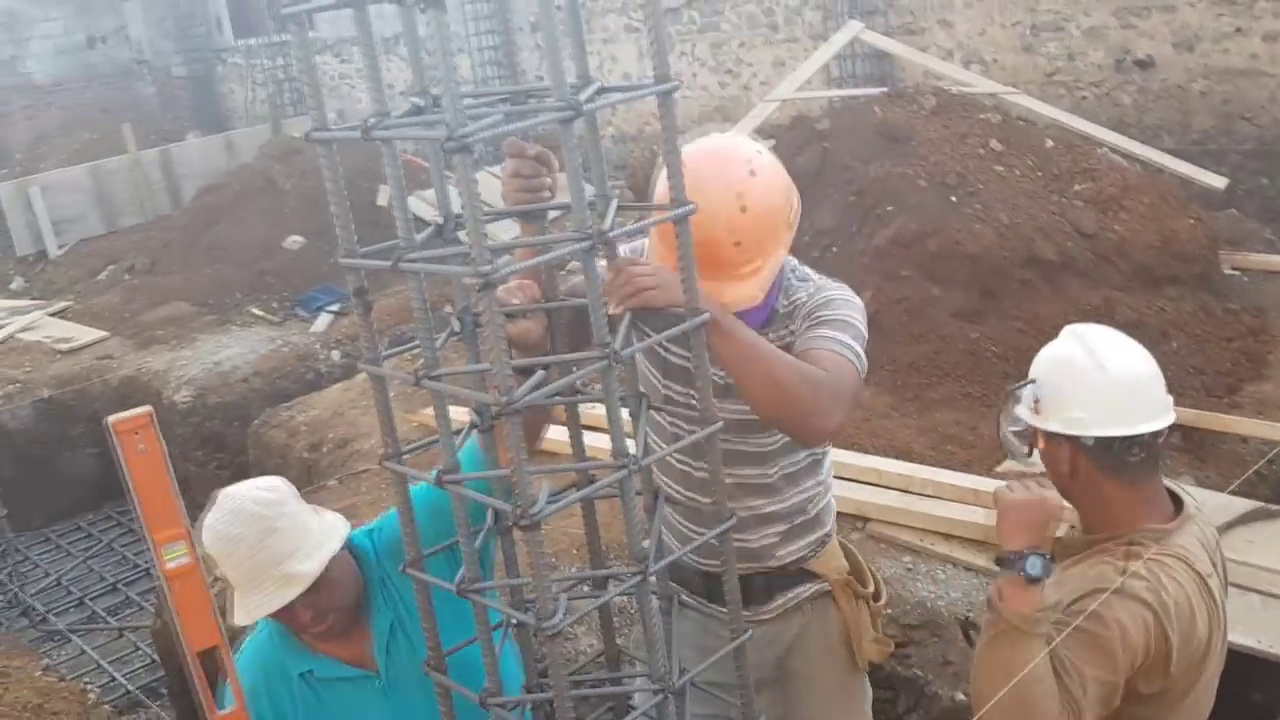helmet: (644, 132, 795, 290), (1025, 325, 1185, 466)
helmet-off: (202, 475, 361, 662)
helmet-on: (628, 125, 805, 350), (1021, 324, 1189, 554)
person: (505, 128, 872, 718), (186, 279, 548, 719), (954, 314, 1230, 717)
